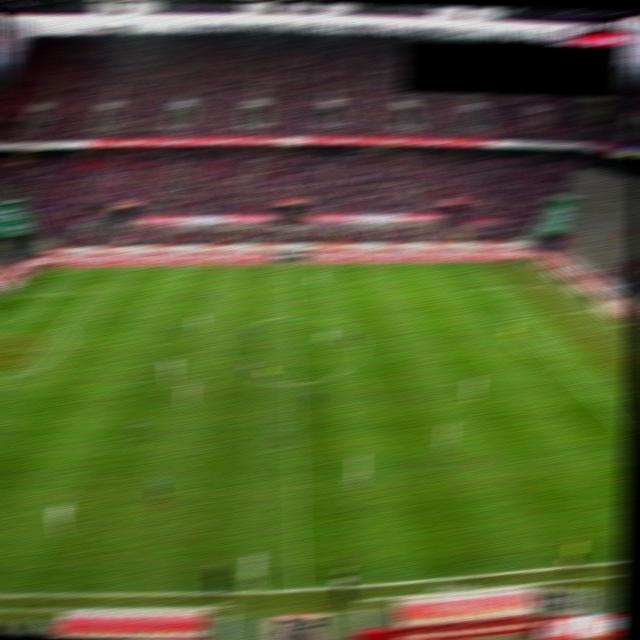bigarea_bottom_inner: (618, 427, 630, 434)
bigarea_top_inner: (475, 281, 495, 291), (80, 289, 101, 298)
bigarea_top_outter: (0, 289, 16, 300), (551, 282, 570, 290)
bottom_arc_area_intersection: (0, 375, 21, 386), (552, 360, 571, 370)
corner: (518, 257, 538, 268), (33, 264, 52, 274)
halfcircle_bottom: (282, 380, 303, 390)
halfcircle_top: (282, 311, 301, 322)
midline_bottom_intersection: (288, 581, 310, 598)
midline_top_intersection: (279, 259, 299, 270)
smallarea_top_inner: (558, 305, 579, 315), (0, 318, 10, 327)
smallarea_top_outter: (584, 304, 604, 314)
top_arc_area_intersection: (50, 320, 70, 331), (505, 314, 524, 322)
